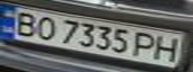3: (93, 24, 115, 53), (75, 20, 96, 48)
5: (112, 26, 133, 56)
7: (54, 17, 81, 46)
B: (6, 10, 42, 37)
H: (151, 34, 184, 63)
O: (30, 14, 60, 40)
P: (130, 29, 160, 58)
